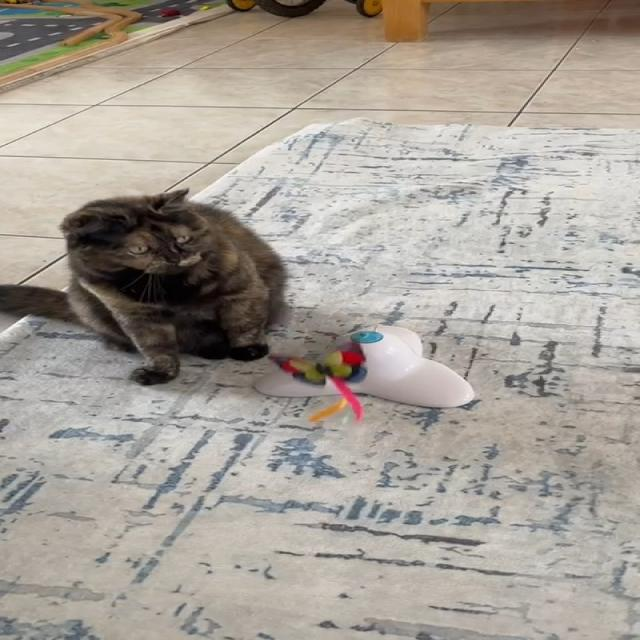authorized: (0, 187, 289, 385)
